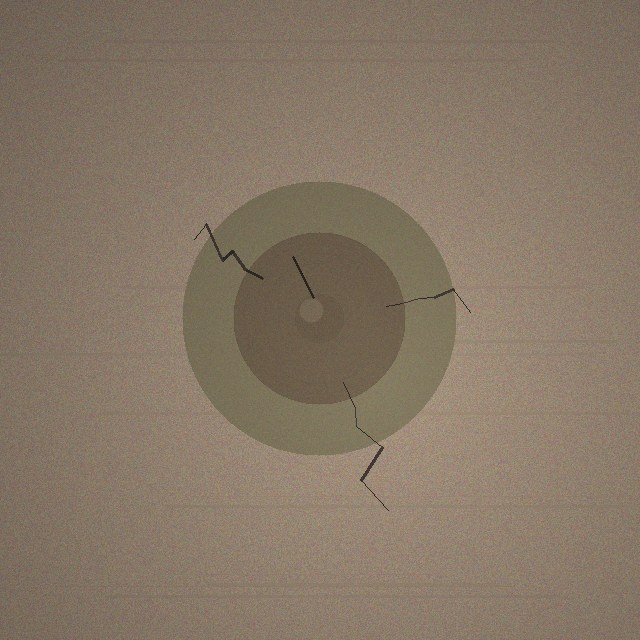crack: (182, 181, 456, 455)
